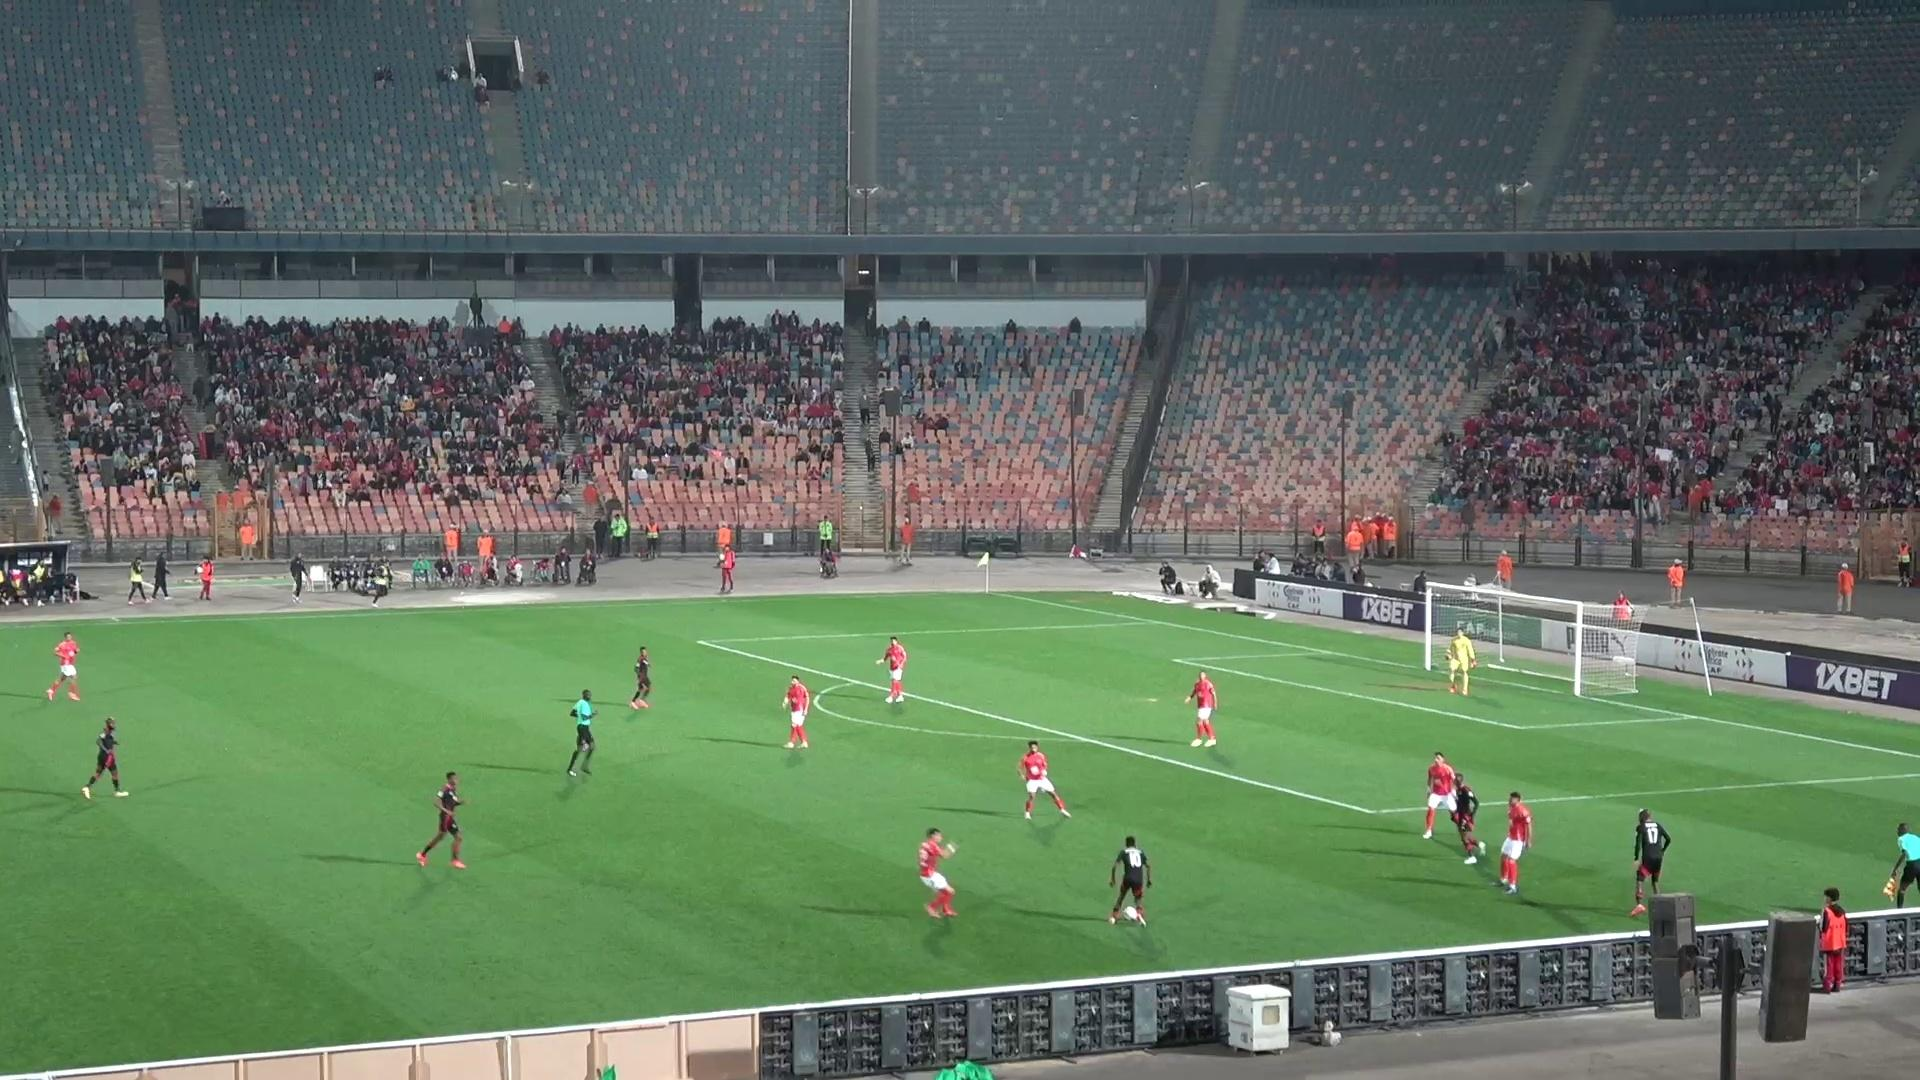Ball: (1120, 905, 1146, 926)
GK1: (1445, 622, 1477, 695)
Refree: (1882, 822, 1919, 909), (564, 690, 597, 777)
Team1: (1015, 740, 1069, 819), (1498, 793, 1534, 893), (918, 828, 955, 916), (1422, 752, 1458, 840), (781, 676, 814, 749), (1187, 670, 1217, 746), (46, 632, 79, 700), (880, 636, 907, 703)
Team2: (415, 771, 465, 869), (1629, 808, 1671, 916), (1108, 837, 1153, 924), (80, 717, 128, 798), (1451, 771, 1485, 865), (626, 646, 654, 709)
